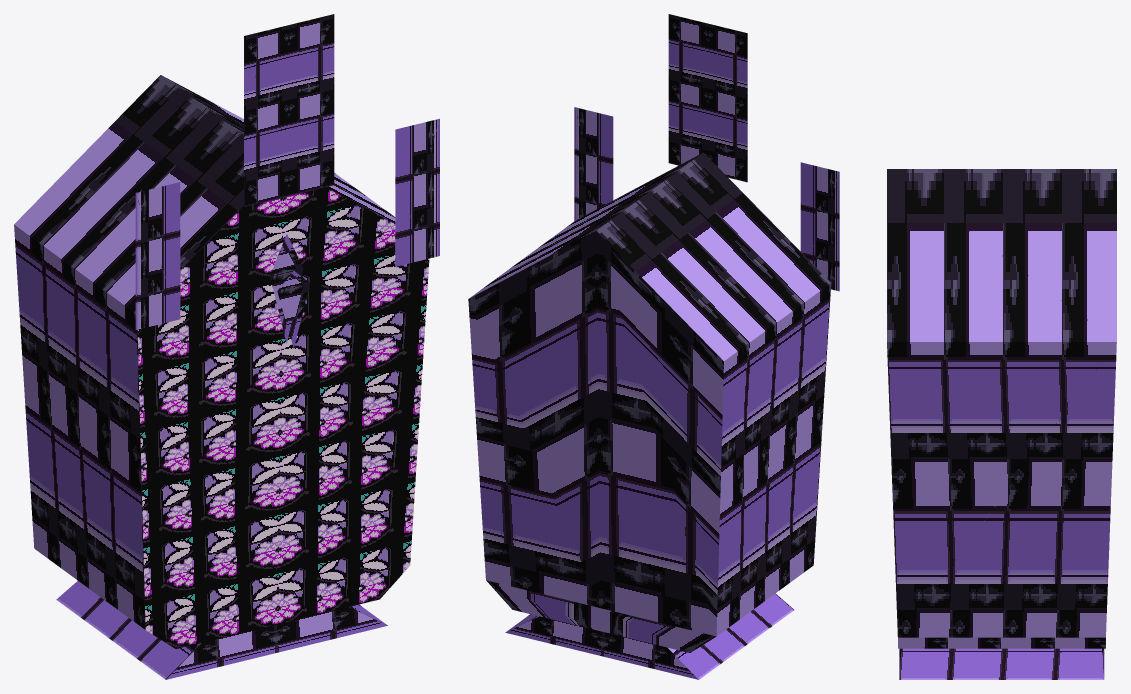
The model's file is 3689kg_ko_clk.gltf.
3 views of the same model, side by side, from view 1: azimuth 30°, elevation 25°; view 2: azimuth 150°, elevation 25°; view 3: azimuth 270°, elevation 25° (orthographic). The views are drawn at different scales.
Parts seen in each view (by area): view 1: 3689kg_ko_clk; view 2: 3689kg_ko_clk; view 3: 3689kg_ko_clk.
Part boxes in pixels (x1,y1,x2,y2): 3689kg_ko_clk: (14,14,439,679); 3689kg_ko_clk: (468,14,839,679); 3689kg_ko_clk: (887,169,1116,679).
Bounding box in the file's own units: 0.5493 × 1.1 × 0.4163.
2 materials, 2 textured.
